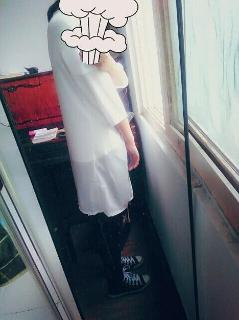long sleeve outwear: (47, 9, 133, 217)
trousers: (72, 146, 133, 284)
